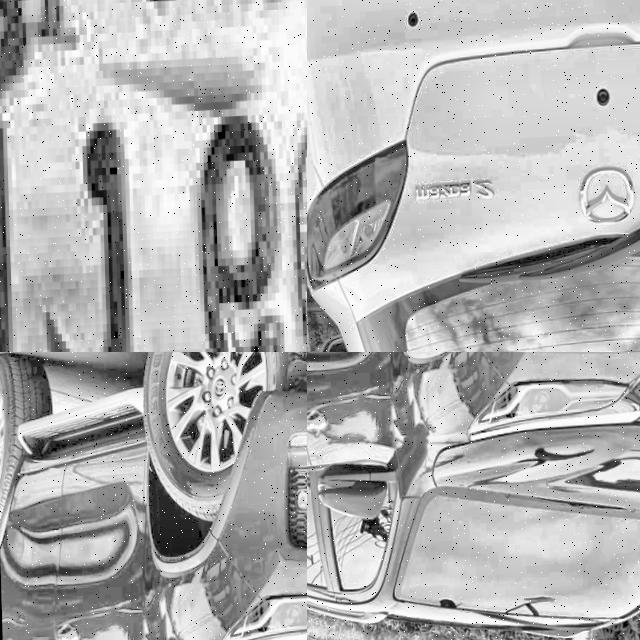license-plate: (0, 0, 307, 352)
